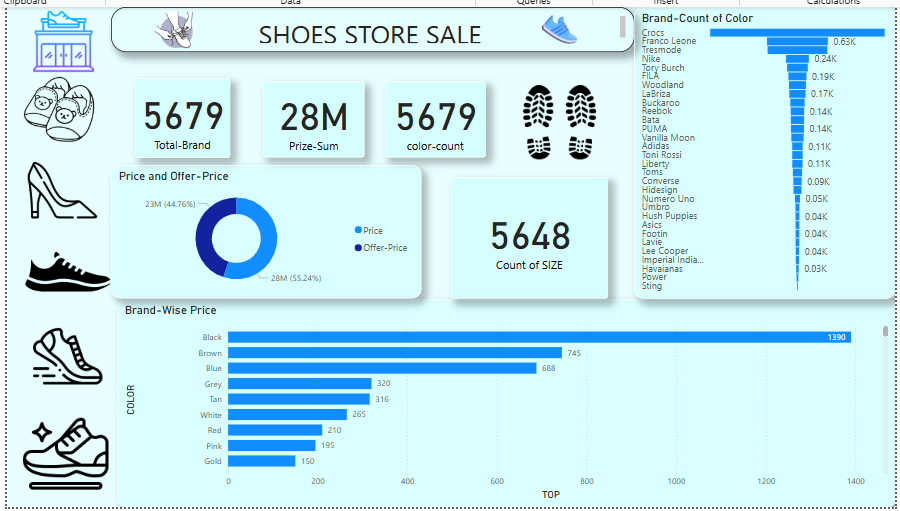

Layout of this report page (visuals, bound fields, positions):
{"tool":"powerbi","page":{"name":"Page 1","canvas":[1280,720],"ordinal":0},"visuals":[{"type":"image","box":[0,0,162.2,98.6],"z":0},{"type":"textbox","box":[149.5,0,753.9,65.2],"z":1000},{"type":"image","box":[0,569.4,168.6,151.1],"z":2000},{"type":"image","box":[688.7,0,214.7,65.2],"z":3000},{"type":"image","box":[11.1,448.6,151.1,109.8],"z":4000},{"type":"image","box":[17.5,310.2,141.6,151.1],"z":5000},{"type":"image","box":[159.1,0,162.2,65.2],"z":6000},{"type":"image","box":[15.9,208.4,128.8,109.8],"z":7000},{"type":"image","box":[0,85.9,149.5,122.5],"z":8000},{"type":"clusteredBarChart","title":"Brand-Wise Price","fields":{"Category":["SHOES.COLOR"],"Y":["SHOES.TOP"]},"box":[158.2,420,1121.8,300],"z":9000},{"type":"card","fields":{"Values":["SHOES.SUM"]},"box":[369,106.6,146.3,109.8],"z":10000},{"type":"card","fields":{"Values":["SHOES.COUNT"]},"box":[184.5,101.8,136.8,114.5],"z":11000},{"type":"card","fields":{"Values":["SHOES.count2"]},"box":[544,106.6,144.7,109.8],"z":12000},{"type":"funnel","title":"Brand-Count of Color","fields":{"Category":["SHOES.BRAND"],"Y":["CountNonNull(SHOES.COLOR)"]},"box":[903.5,0,377,419.9],"z":13000},{"type":"donutChart","fields":{"Y":["Sum(SHOES.PRICE)","Sum(SHOES.OFFER-PRICE)"]},"box":[149.5,227.5,447,192.5],"z":14000},{"type":"card","fields":{"Values":["CountNonNull(SHOES.SIZE)"]},"box":[639.4,245,225.9,175],"z":15000},{"type":"image","box":[688.7,85.9,214.7,159.1],"z":16000}]}

Visuals, with their boxes on the page's 1280x720 design canvas (x1, y1, x2, y2). These are canvas units, not pixel positions in the 900x511 screenshot, which may show the page scaled, cropped or inside an application window:
image: Rect(0, 0, 162, 99)
textbox: Rect(150, 0, 903, 65)
image: Rect(0, 569, 169, 720)
image: Rect(689, 0, 903, 65)
image: Rect(11, 449, 162, 558)
image: Rect(18, 310, 159, 461)
image: Rect(159, 0, 321, 65)
image: Rect(16, 208, 145, 318)
image: Rect(0, 86, 150, 208)
"Brand-Wise Price" clusteredBarChart: Rect(158, 420, 1280, 720)
card - SHOES.SUM: Rect(369, 107, 515, 216)
card - SHOES.COUNT: Rect(184, 102, 321, 216)
card - SHOES.count2: Rect(544, 107, 689, 216)
"Brand-Count of Color" funnel: Rect(904, 0, 1280, 420)
donutChart - Sum(SHOES.PRICE) x Sum(SHOES.OFFER-PRICE): Rect(150, 228, 596, 420)
card - CountNonNull(SHOES.SIZE): Rect(639, 245, 865, 420)
image: Rect(689, 86, 903, 245)
